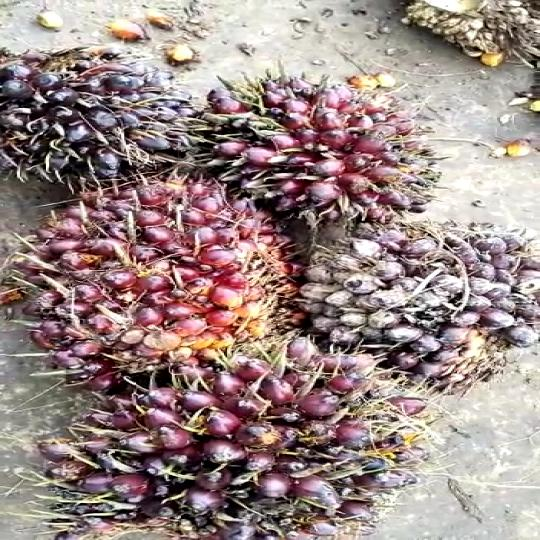kurang masak: (35, 342, 449, 539), (0, 165, 270, 373), (285, 214, 540, 395), (164, 77, 431, 228), (0, 43, 191, 181)
